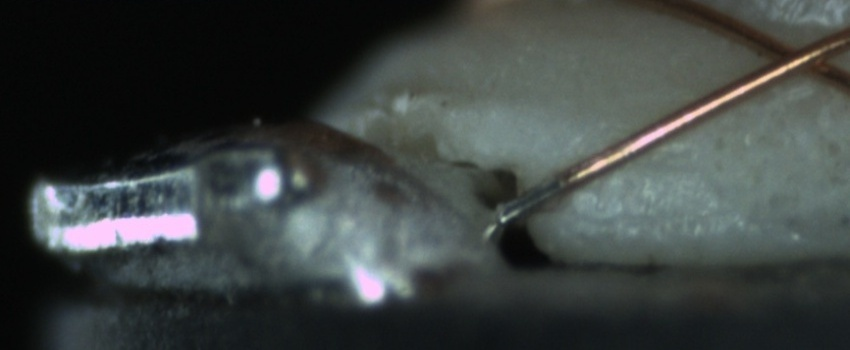CL: (742, 25, 845, 87)
DL: (619, 138, 704, 192)
TS: (496, 176, 566, 229)
